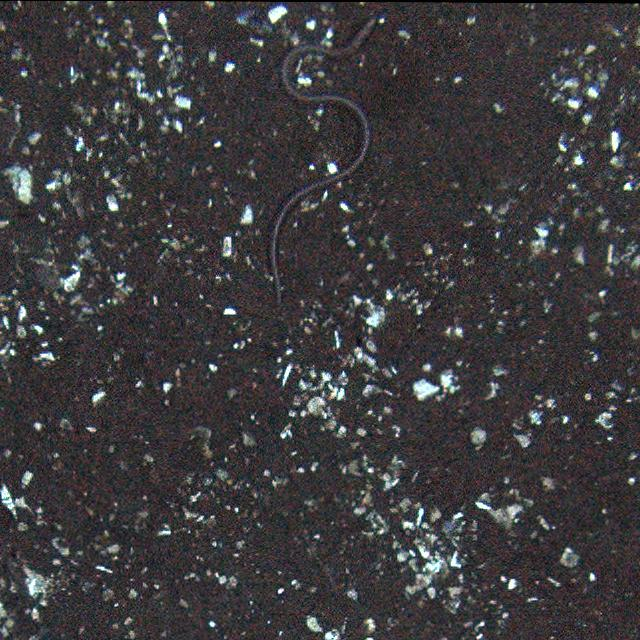eel: (266, 16, 381, 300)
